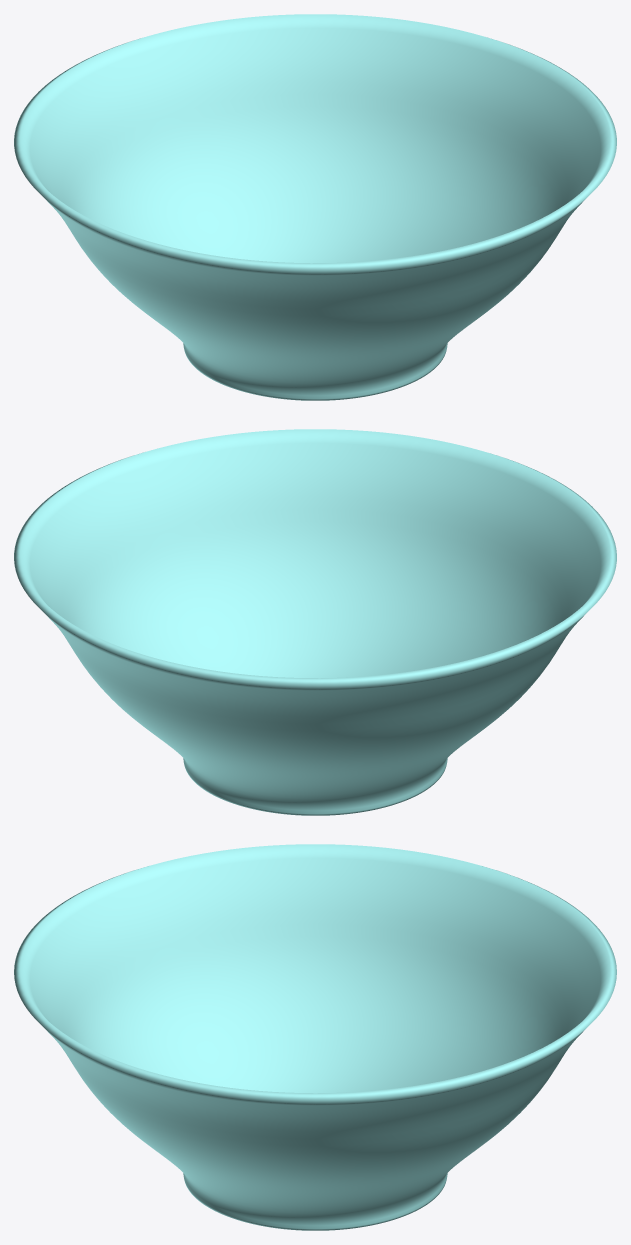
The model's file is Bowl.fbx.
3 views of the same model, one above another, from view 1: azimuth 30°, elevation 25°; view 2: azimuth 150°, elevation 25°; view 3: azimuth 270°, elevation 25° (orthographic).
Visible parts, largest first — view 1: Sphere; view 2: Sphere; view 3: Sphere.
Boxes of the visible parts, x1=… form: Sphere: x1=14, y1=14, x2=616, y2=400; Sphere: x1=14, y1=429, x2=616, y2=815; Sphere: x1=14, y1=844, x2=616, y2=1230.
Bounding box in the file's own units: 217 × 82.13 × 217.
